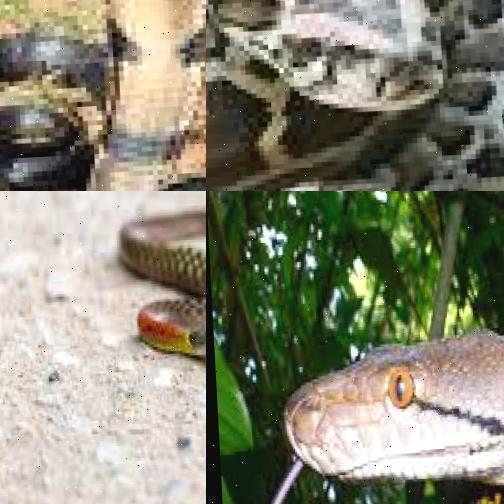2: (58, 191, 206, 413)
3: (276, 301, 504, 504)
5: (0, 0, 206, 191)
snake: (206, 0, 504, 191)
